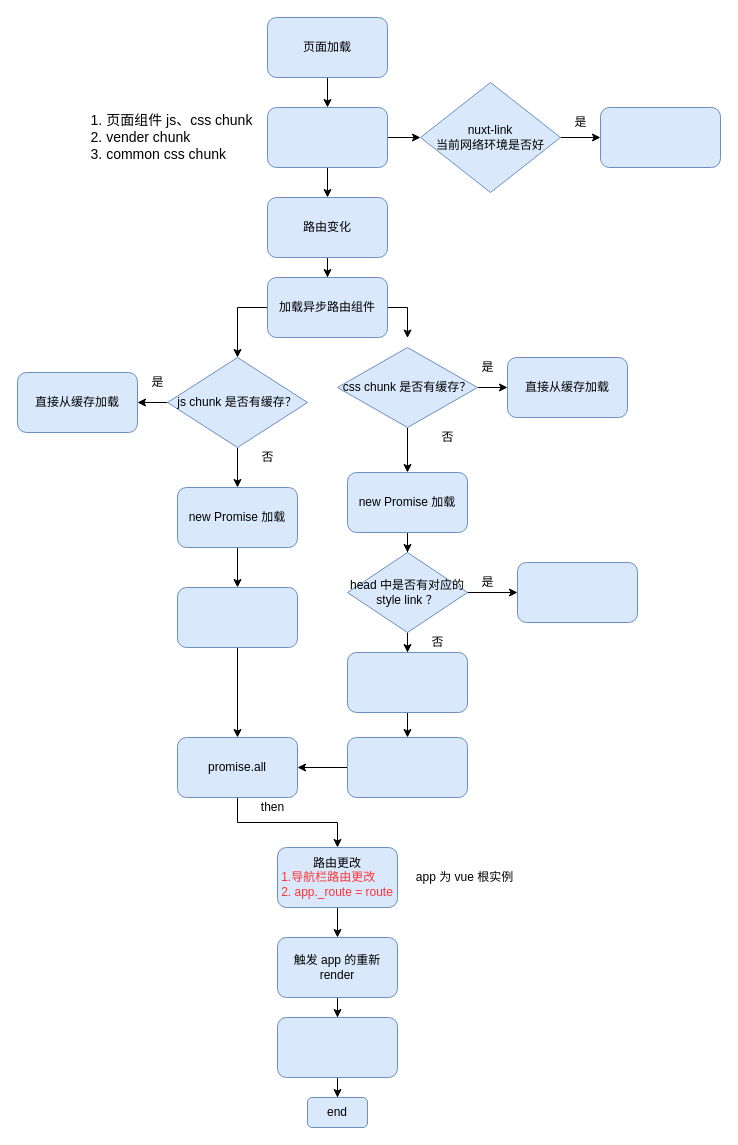
Some shapes in this 738 by 1145 pixel diagram are drawn without their labels. Each missing label, with the centre of its shape:
resolve: [577,592]
router-view 函数式组件根据当前路由渲染特定路由页面组件: [337,1047]
创建 link 标签 并在 onload 的时候 进行 resolve: [407,682]
创建 scrIpt 标签并设置src 为要加载的 js chunk 地址，append 到 body 元素中: [237,617]
加载主 js chunk， css chunk: [327,137]
加载可能用到的路由 js,css chunk: [660,137]
将 css appendChild 到 head 中: [407,767]
